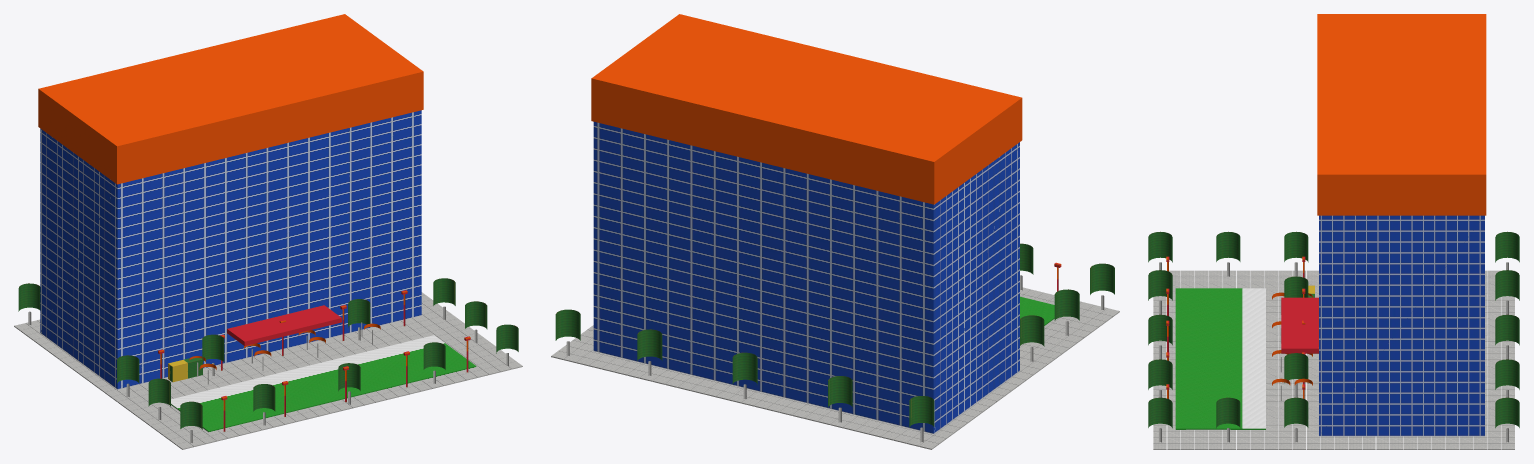
The picture shows the model from 3 angles, left to right: view 1: azimuth 30°, elevation 25°; view 2: azimuth 150°, elevation 25°; view 3: azimuth 270°, elevation 25°; orthographic projection. The views are drawn at different scales.
Parts seen in each view (by area): view 1: 28185_B47_Square1_Shopping_Mall; view 2: 28185_B47_Square1_Shopping_Mall; view 3: 28185_B47_Square1_Shopping_Mall.
Part boxes in pixels (x1,y1,x2,y2): 28185_B47_Square1_Shopping_Mall: (14,14,522,449); 28185_B47_Square1_Shopping_Mall: (551,14,1119,449); 28185_B47_Square1_Shopping_Mall: (1148,14,1519,449).
Bounding box in the file's own units: 55.95 × 38.5 × 49.2.
Materials: 1 (1 with a texture image).
